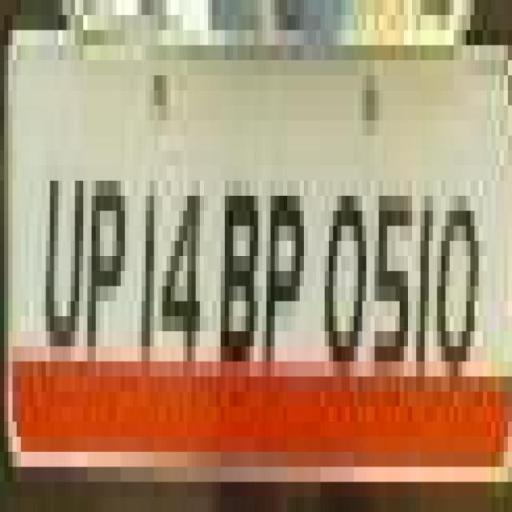number plate: (21, 30, 512, 407)
